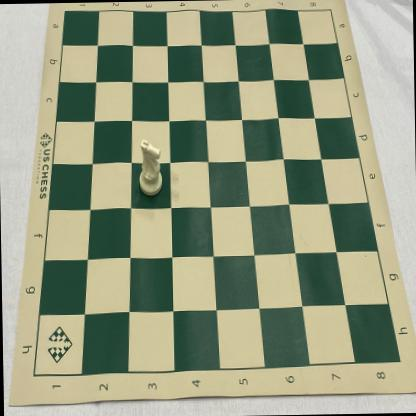knight: (137, 138, 164, 197)
